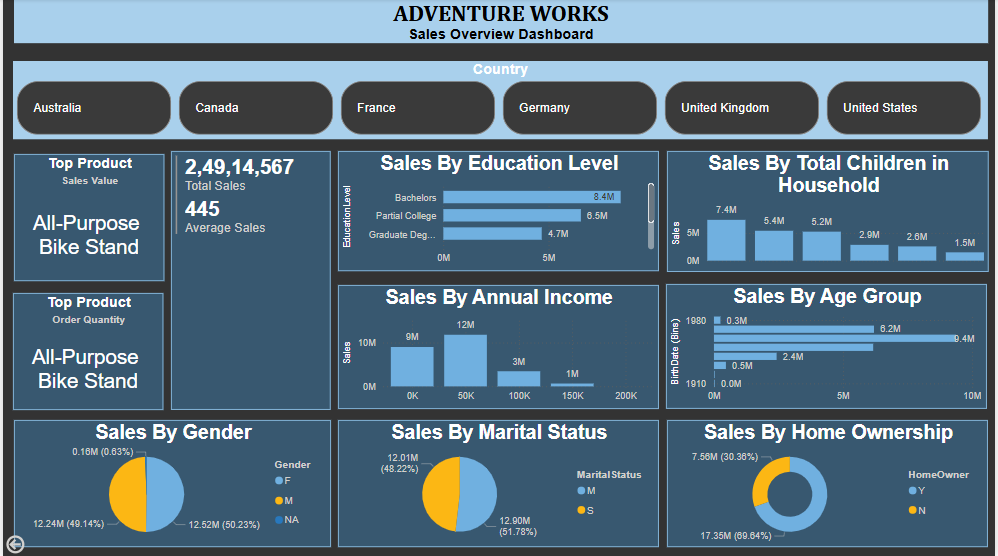

The page's visual inventory and layout, read from the dashboard file:
{"tool":"powerbi","page":{"name":"Page 1","canvas":[1280,720],"ordinal":0},"visuals":[{"type":"pieChart","title":"Sales By Gender","fields":{"Category":["AW_Customers.Gender"],"Y":["Sum(AW_Sales.Sales)"]},"box":[14.2,543.2,409,163.9],"z":0},{"type":"clusteredBarChart","title":"Sales By Education Level","fields":{"Category":["AW_Customers.EducationLevel"],"Y":["Sum(AW_Sales.Sales)"]},"box":[432.3,196.1,414.2,154.8],"z":1000},{"type":"clusteredColumnChart","title":"Sales By Annual Income","fields":{"Y":["Sum(AW_Sales.Sales)"],"Category":["AW_Customers.AnnualIncome (bins)"]},"box":[432.4,369.6,413.8,159.8],"z":2000},{"type":"advancedSlicerVisual","fields":{"Values":["AdventureWorks_Territories.Country"]},"box":[12.9,80,1258.1,100.6],"z":3000},{"type":"clusteredBarChart","title":"Sales By Age Group","fields":{"Y":["Sum(AW_Sales.Sales)"],"Category":["AW_Customers.BirthDate (bins)"]},"box":[855.5,367.7,414.2,161.3],"z":4000},{"type":"actionButton","box":[0,687.7,76.1,32.3],"z":5000},{"type":"donutChart","title":"Sales By Home Ownership","fields":{"Y":["Sum(AW_Sales.Sales)"],"Category":["AW_Customers.HomeOwner"]},"box":[856.8,543.2,414.2,163.9],"z":6000},{"type":"pieChart","title":"Sales By Marital Status","fields":{"Category":["AW_Customers.MaritalStatus"],"Y":["Sum(AW_Sales.Sales)"]},"box":[432.3,543.2,414.2,163.9],"z":7000},{"type":"clusteredColumnChart","title":"Sales By Total Children in Household","fields":{"Y":["Sum(AW_Sales.Sales)"],"Category":["AW_Customers.TotalChildren"]},"box":[856.2,195.5,415.3,155.5],"z":8000},{"type":"card","title":"Top Product","fields":{"Values":["Min(AW_Products.ProductName)"]},"box":[14.2,200,193.5,163.9],"z":9000},{"type":"card","title":"Top Product","fields":{"Values":["Min(AW_Products.ProductName)"]},"box":[12.9,379.4,193.5,151],"z":10000},{"type":"multiRowCard","fields":{"Values":["Sum(AW_Sales.Sales)","Avg(AW_Sales.Sales)"]},"box":[216.8,196.1,206.5,334.2],"z":11000},{"type":"textbox","title":"ADVENTURE WORKS","box":[14.2,0,1256.8,56.8],"z":11001}]}

Visuals, with their boxes in screenshot pixels (x1, y1, x2, y2), scaled from the page's 1280x720 canvas onto the 998x556 screenshot:
"Sales By Gender" pieChart: 11, 419, 330, 546
"Sales By Education Level" clusteredBarChart: 337, 151, 660, 271
"Sales By Annual Income" clusteredColumnChart: 337, 285, 660, 409
advancedSlicerVisual - AdventureWorks_Territories.Country: 10, 62, 991, 139
"Sales By Age Group" clusteredBarChart: 667, 284, 990, 409
actionButton: 0, 531, 59, 555
"Sales By Home Ownership" donutChart: 668, 419, 991, 546
"Sales By Marital Status" pieChart: 337, 419, 660, 546
"Sales By Total Children in Household" clusteredColumnChart: 668, 151, 991, 271
"Top Product" card: 11, 154, 162, 281
"Top Product" card: 10, 293, 161, 410
multiRowCard - Sum(AW_Sales.Sales) x Avg(AW_Sales.Sales): 169, 151, 330, 410
"ADVENTURE WORKS" textbox: 11, 0, 991, 44
